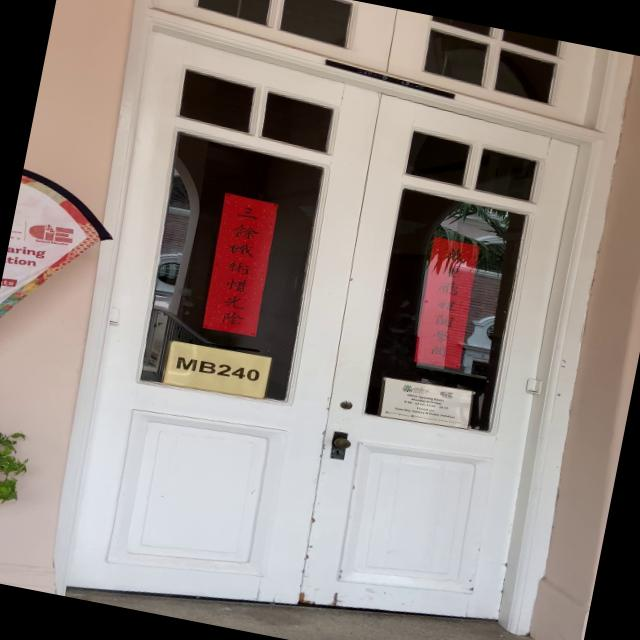room240: (168, 343, 266, 396)
